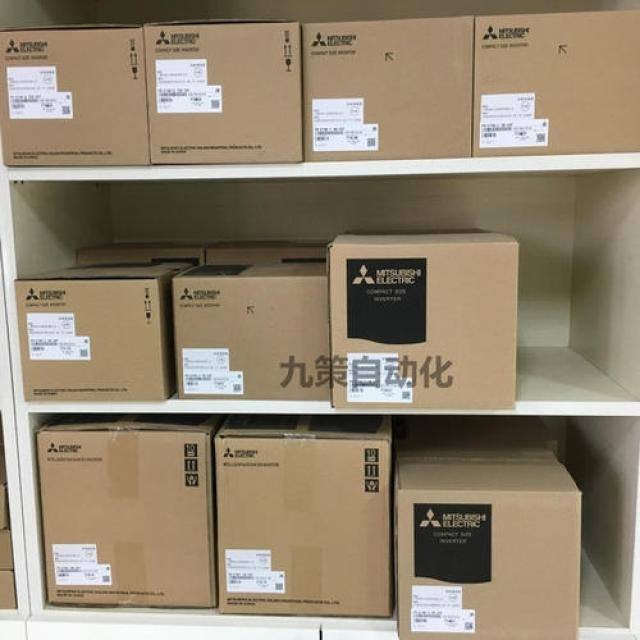box: (392, 442, 584, 639), (36, 413, 227, 608), (215, 413, 397, 617), (328, 228, 518, 410), (302, 14, 475, 161), (15, 262, 193, 402), (474, 9, 640, 156), (142, 18, 303, 164), (173, 261, 330, 401), (0, 24, 151, 166), (393, 416, 558, 458), (77, 241, 214, 268), (206, 239, 328, 265), (0, 570, 17, 609), (0, 529, 13, 571)
